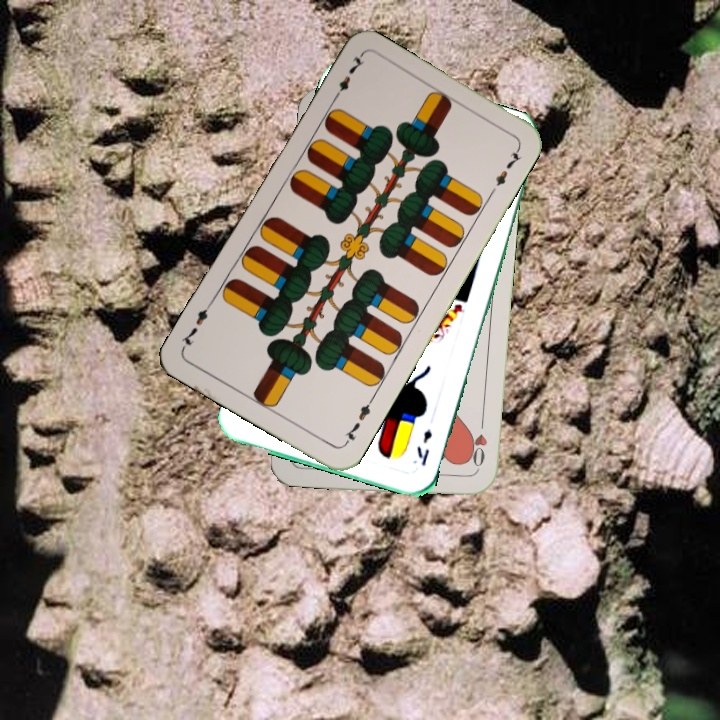E7: (328, 51, 367, 105), (340, 394, 376, 448)
EK: (412, 424, 435, 469)
HO: (463, 415, 490, 474)
